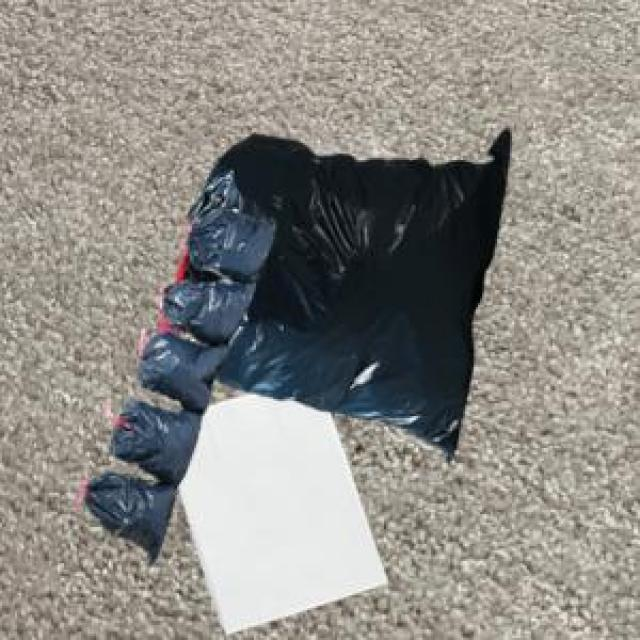miscellaneous trash: (154, 126, 506, 457), (79, 205, 270, 561)
paper: (173, 388, 382, 632)
